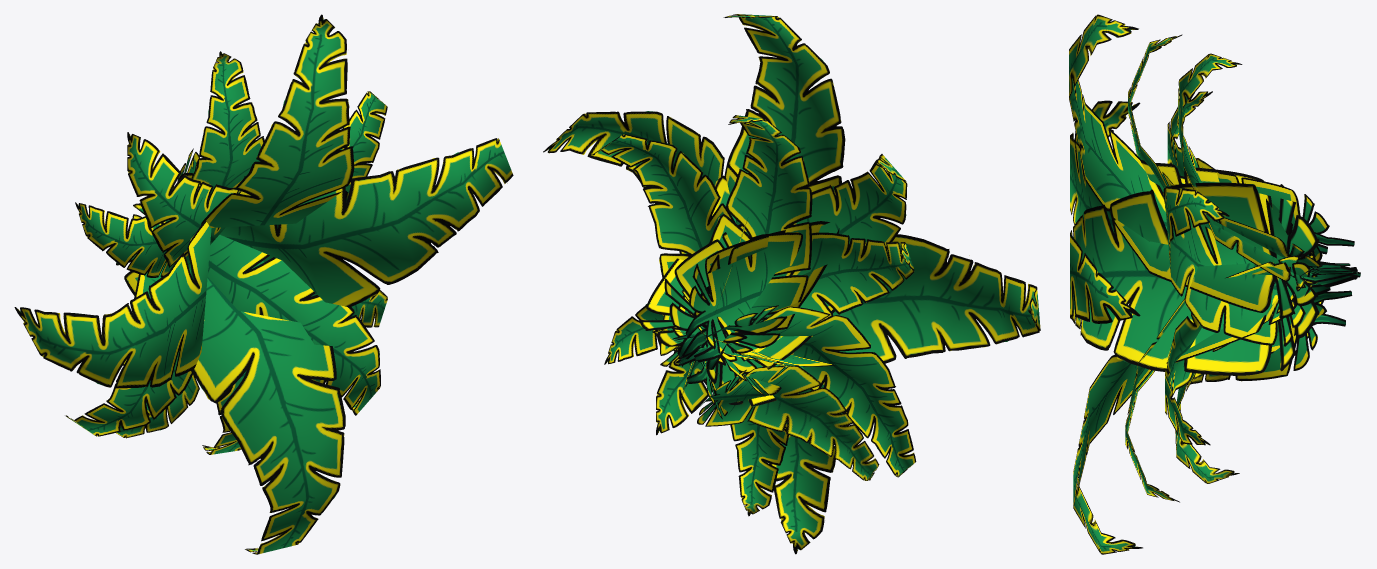
File: fern.fbx
3 renders of one model, left to right at view 1: azimuth 30°, elevation 25°; view 2: azimuth 150°, elevation 25°; view 3: azimuth 270°, elevation 25°, orthographic. The views are drawn at different scales.
Parts seen in each view (by area): view 1: Cube_007; view 2: Cube_007; view 3: Cube_007.
Part boxes in pixels (box(x1,y1,x2,y2)): Cube_007: box(14, 14, 513, 554); Cube_007: box(543, 14, 1040, 554); Cube_007: box(1069, 14, 1360, 554).
Bounding box in the file's own units: 8.8 × 8.95 × 4.27.
Materials: 1 (1 with a texture image).
